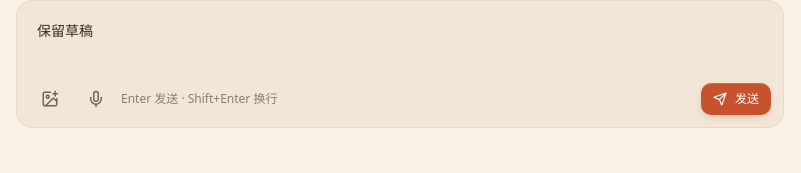
Test case: 麦克风拒绝授权时保留原文字并给出提示
The width and height of the screenshot is (801, 173).
Click the button named "语音输入": (96, 99) [75,83,117,115]
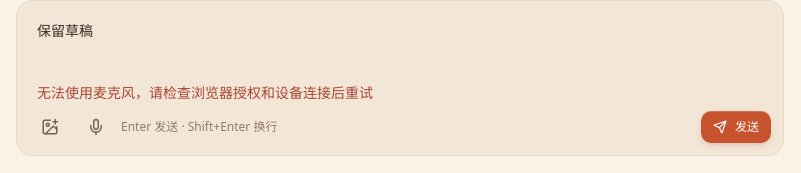
Expected: the text box holds "保留草稿", [29,13,771,77]
Now the message shows "麦克风", box [37,83,373,102]
